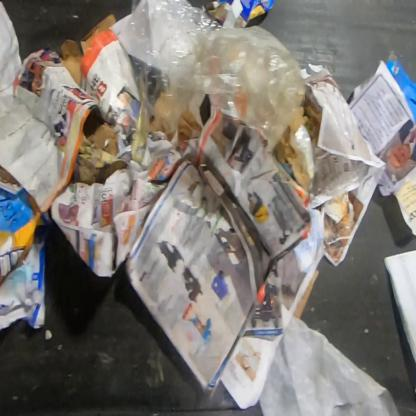cardboard: (0, 186, 54, 287), (58, 12, 117, 88), (67, 121, 127, 186), (385, 50, 415, 123), (206, 0, 275, 26), (294, 268, 321, 320)
soft_plastic: (120, 0, 307, 154), (258, 315, 402, 415), (291, 123, 315, 188)
